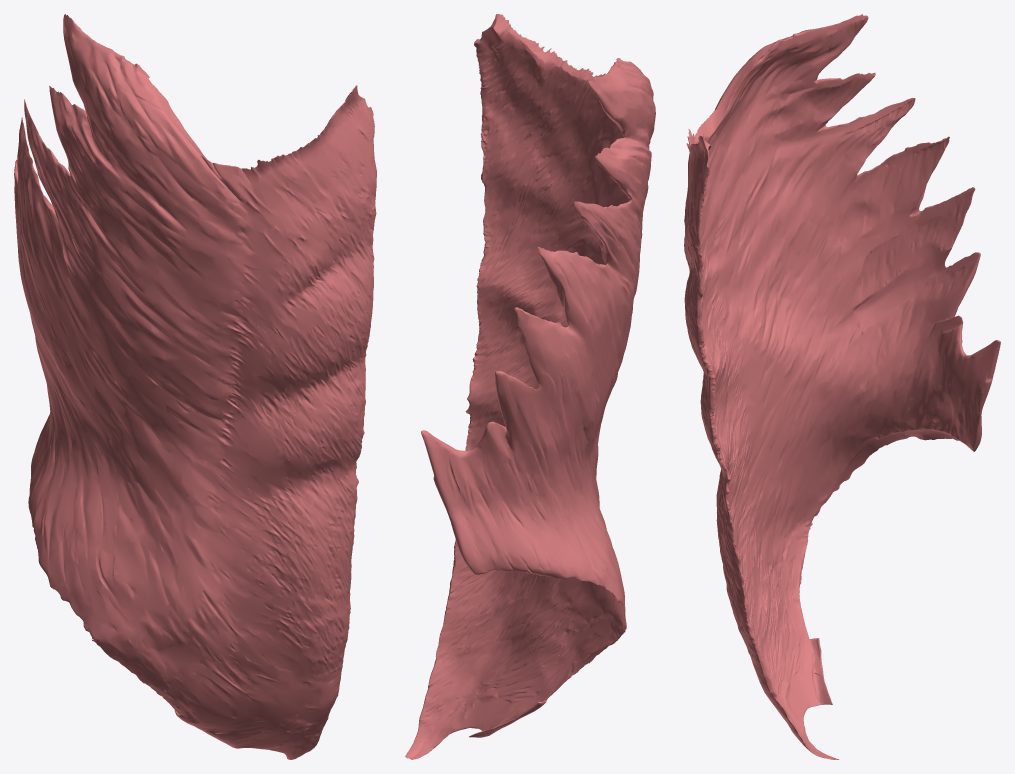
3 views of the same model, side by side, from view 1: azimuth 30°, elevation 25°; view 2: azimuth 150°, elevation 25°; view 3: azimuth 270°, elevation 25° (orthographic). The views are drawn at different scales.
Visible parts, largest first — view 1: FJ1452; view 2: FJ1452; view 3: FJ1452.
Boxes of the visible parts, x1,y1,x2,y2 form: FJ1452: [14, 14, 376, 759]; FJ1452: [405, 14, 655, 759]; FJ1452: [684, 14, 1000, 759].
Size of the model in its own units: 0.1366 by 0.4157 by 0.1808.
